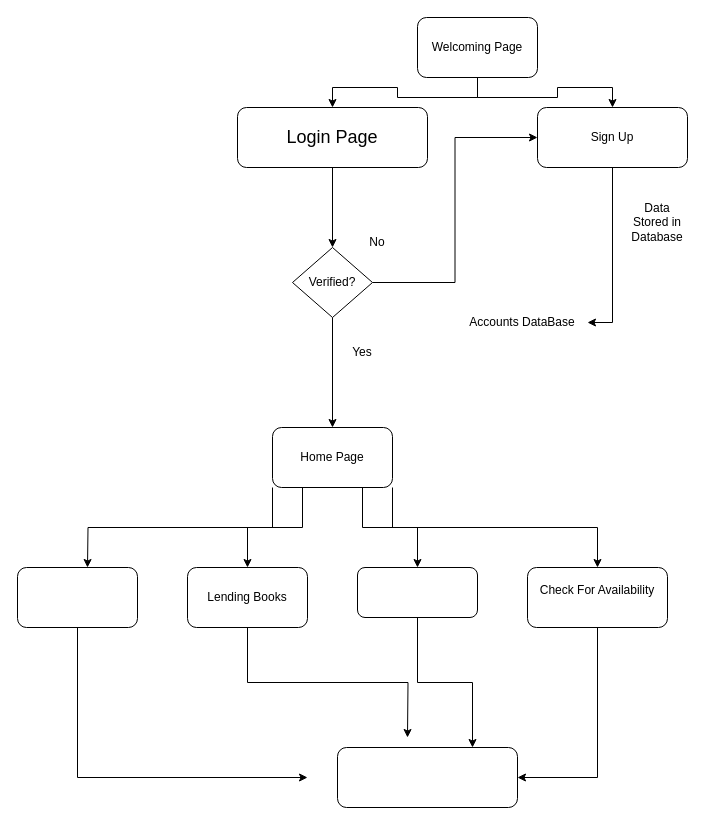
This 705x825 diagram has some shape labels left out. The shapes that lost their labels are listed below. From the top down, each one's centre as x and y in pixels, then its label:
At point (77, 597): "Register New Books".
At point (417, 592): "Book Submission".
At point (427, 777): "changes in Book Database".
